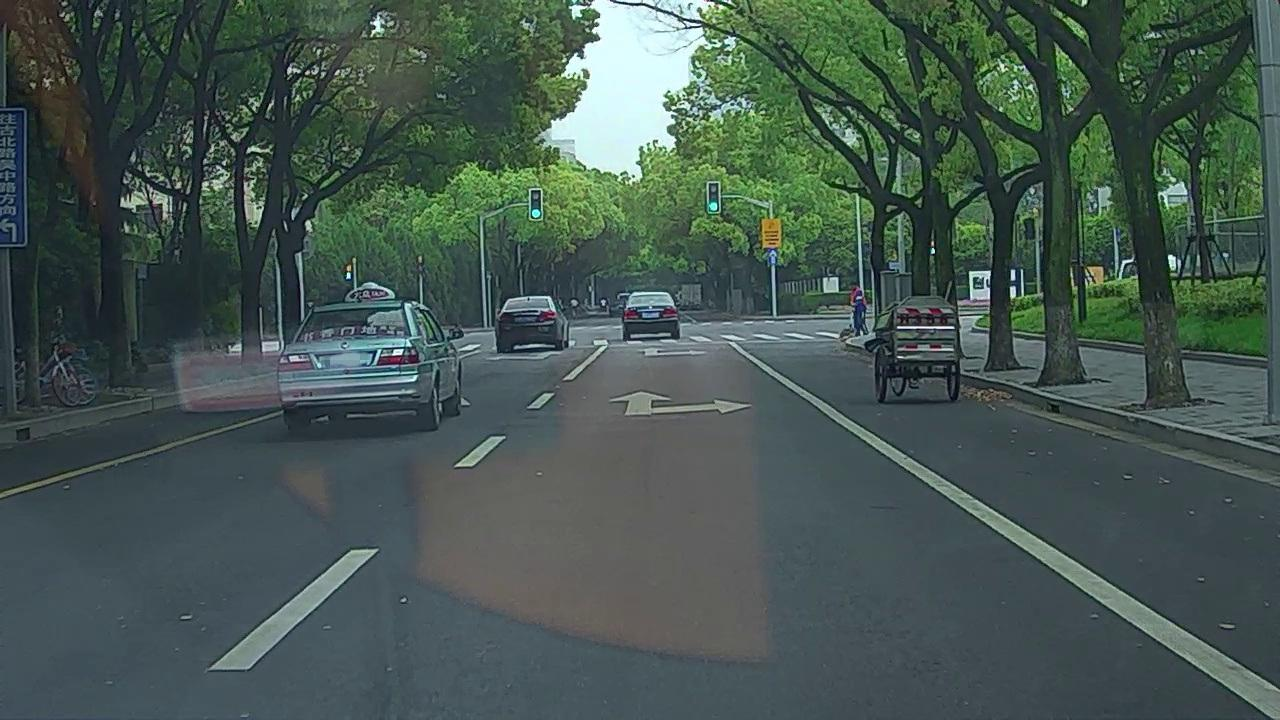traffic_light: (708, 183, 720, 212), (531, 190, 541, 219)
